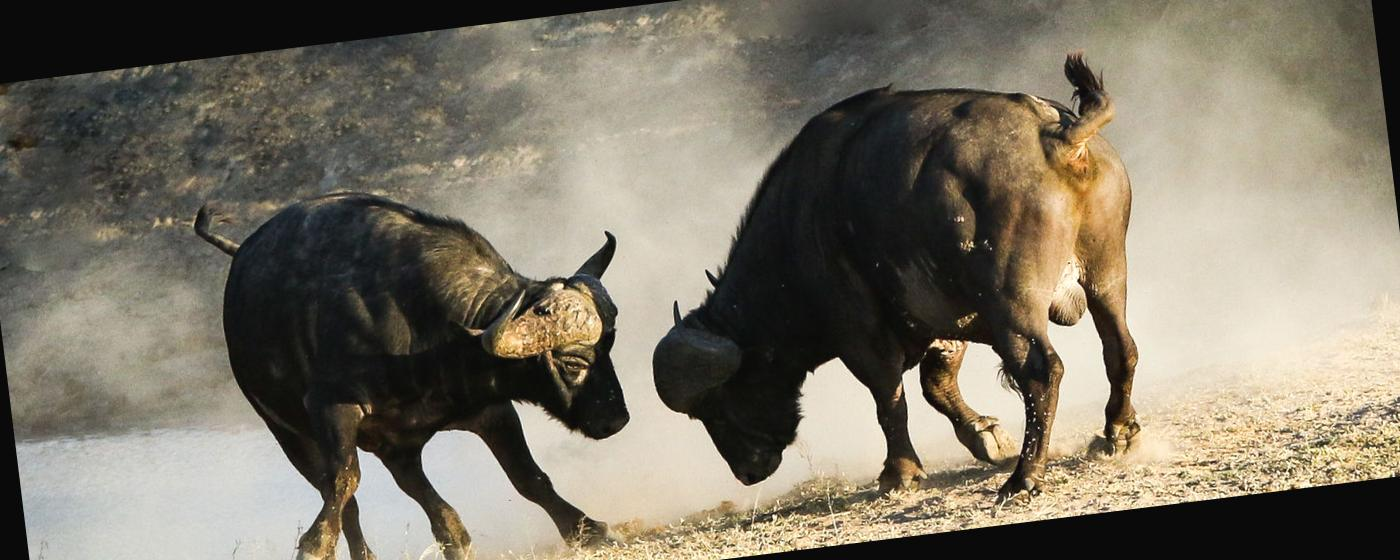Buffalo: (139, 0, 1290, 560)
